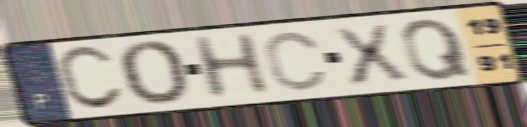C: (54, 43, 129, 114), (262, 29, 331, 93)
H: (187, 30, 275, 103)
O: (114, 38, 192, 108)
Q: (398, 16, 476, 83)
X: (327, 21, 415, 88)
